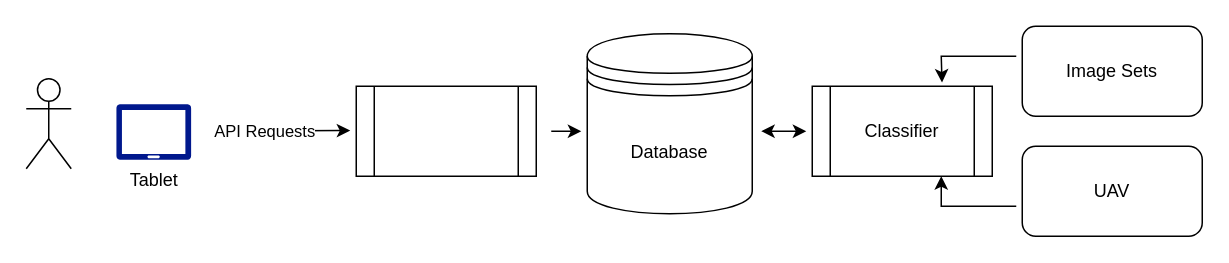
Some shapes in this 1229 by 263 pixel diagram are drawn without their labels. The centre of each missing label's shape, as x and y in pixels:
"Classification Server" belongs at (x=445, y=130).
"User" belongs at (x=48, y=123).
